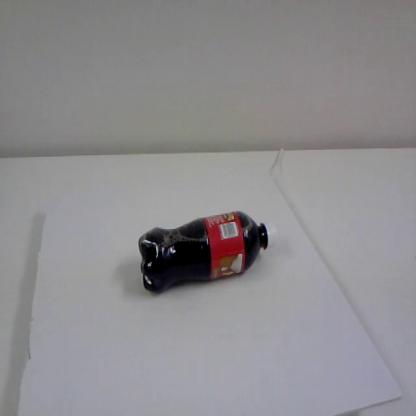bottle: (136, 208, 278, 296)
